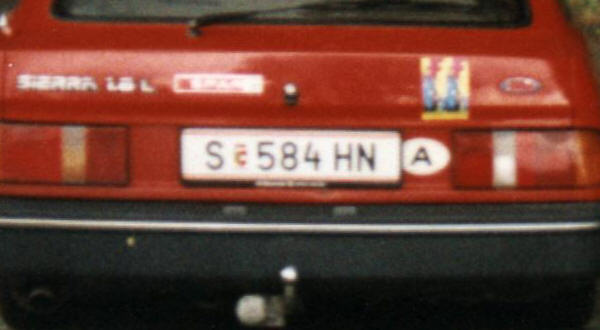license_plate: (180, 128, 402, 183)
